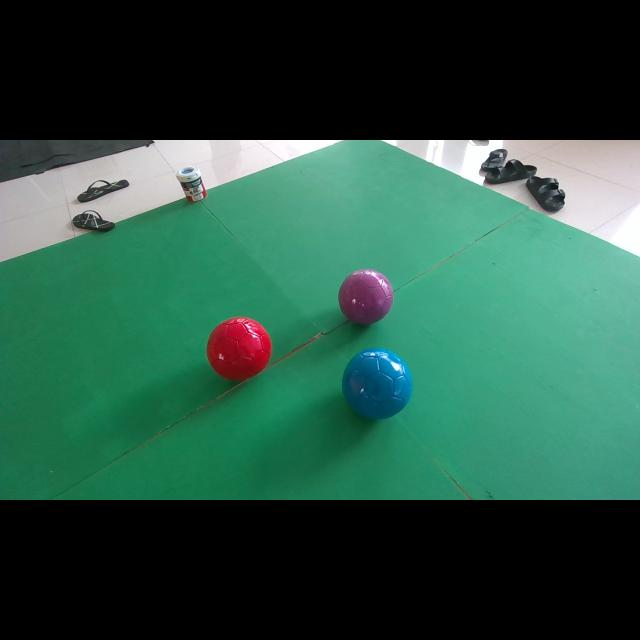B: (342, 348, 412, 419)
P: (339, 270, 394, 324)
R: (206, 318, 272, 379)
